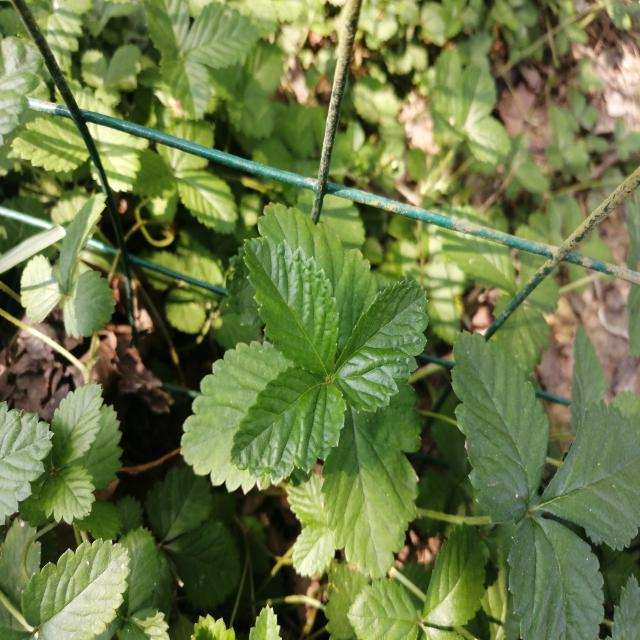Mock_strawberry: (226, 239, 432, 555)
